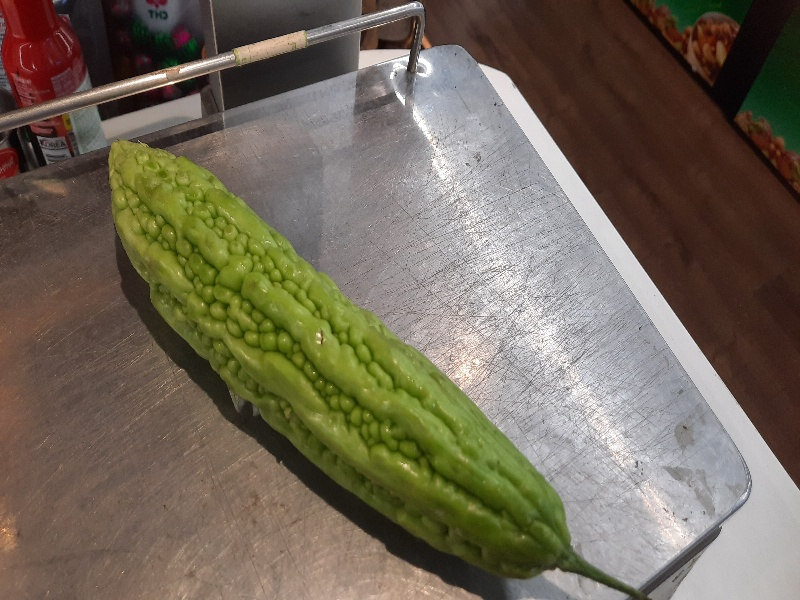vege: (99, 138, 633, 593)
